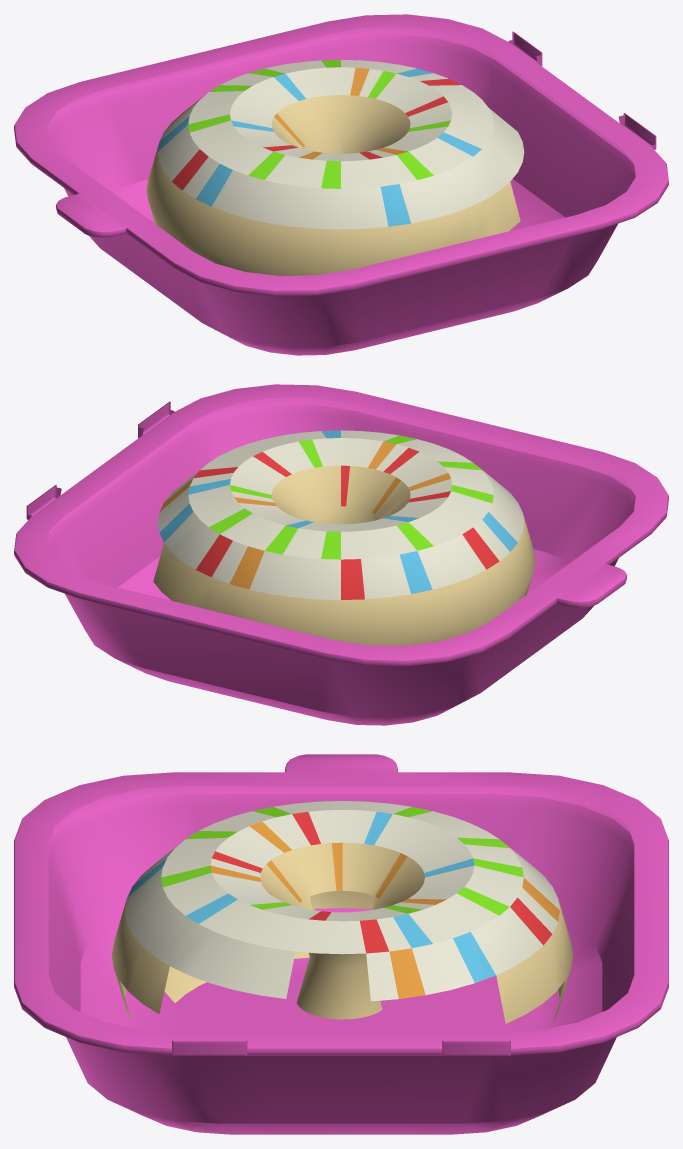
File: donut_revize.fbx
3 renders of one model, top to bottom at view 1: azimuth 30°, elevation 25°; view 2: azimuth 150°, elevation 25°; view 3: azimuth 270°, elevation 25°, orthographic. The views are drawn at different scales.
Visible parts, largest first — view 1: donut; view 2: donut; view 3: donut.
Boxes of the visible parts, x1,y1,x2,y2 form: donut: (14,14,668,355); donut: (14,384,668,725); donut: (14,754,668,1134).
Size of the model in its own units: 257 by 72.31 by 238.
